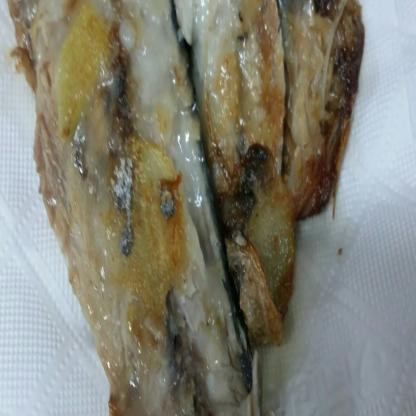Peixe: (0, 0, 386, 416)
